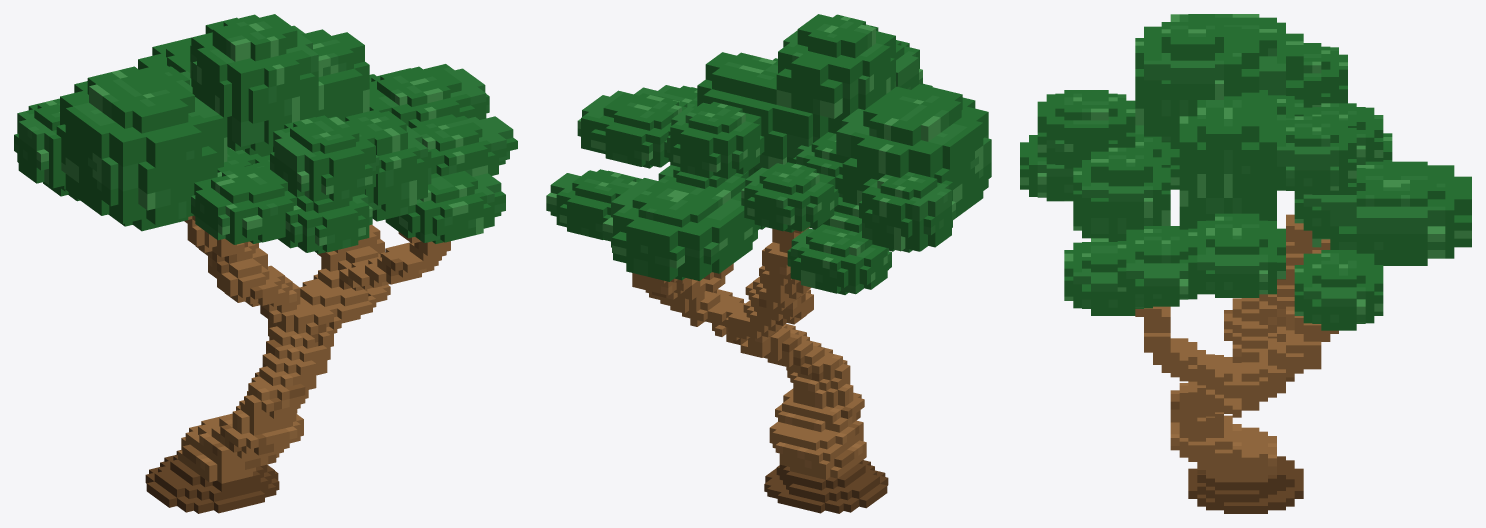
Rendered from 1_2 caju.obj.
3 renders of one model, left to right at view 1: azimuth 30°, elevation 25°; view 2: azimuth 150°, elevation 25°; view 3: azimuth 270°, elevation 25°, orthographic. The views are drawn at different scales.
Bounding box in the file's own units: 5.3 × 5.8 × 5.1.
1 material, 1 textured.
